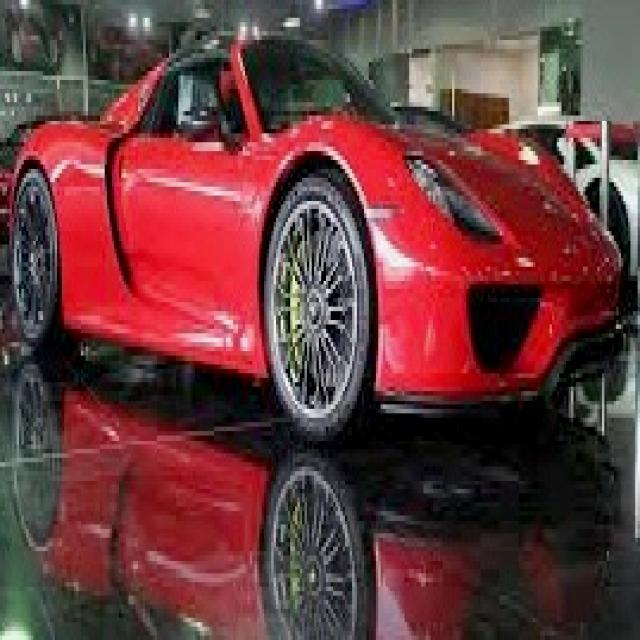red: (12, 35, 622, 409)
